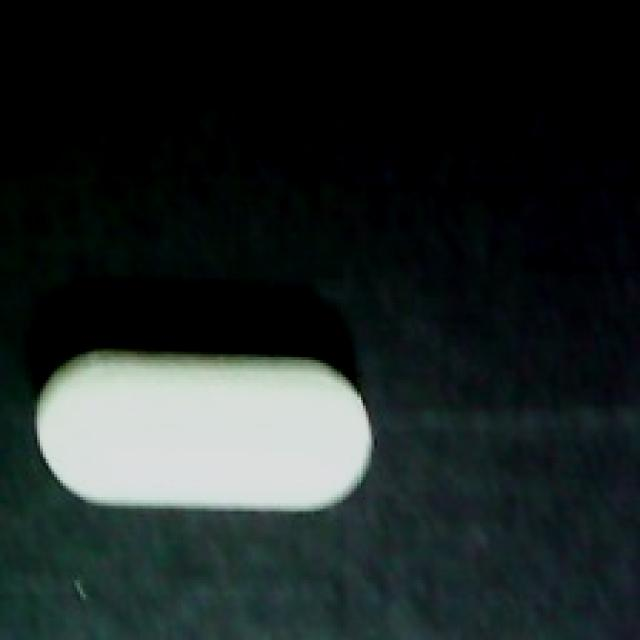no-defect: (29, 329, 380, 520)
